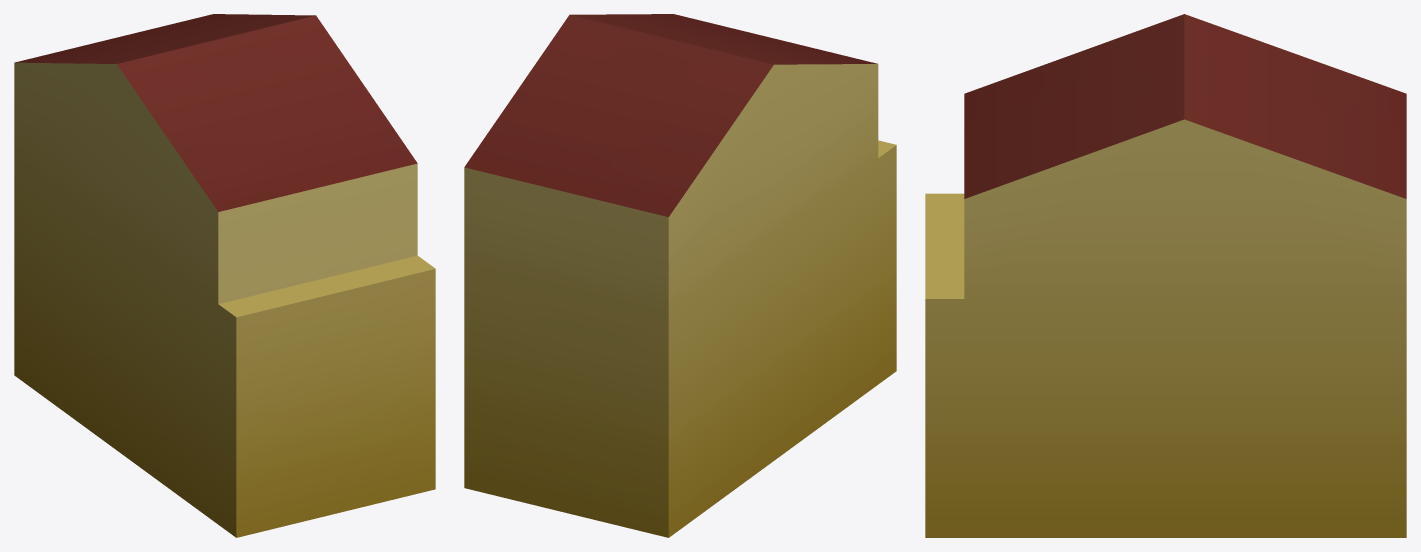
File: SM_CityVistaBuilding_02.fbx
The picture shows the model from 3 angles, left to right: view 1: azimuth 30°, elevation 25°; view 2: azimuth 150°, elevation 25°; view 3: azimuth 270°, elevation 25°; orthographic projection. The views are drawn at different scales.
Parts seen in each view (by area): view 1: SM_CityVistaBuilding_02; view 2: SM_CityVistaBuilding_02; view 3: SM_CityVistaBuilding_02.
Part boxes in pixels (x1,y1,x2,y2): SM_CityVistaBuilding_02: [14, 14, 435, 537]; SM_CityVistaBuilding_02: [464, 14, 896, 537]; SM_CityVistaBuilding_02: [925, 14, 1406, 537].
Size of the model in its own units: 5.6 by 10.37 by 10.81.
